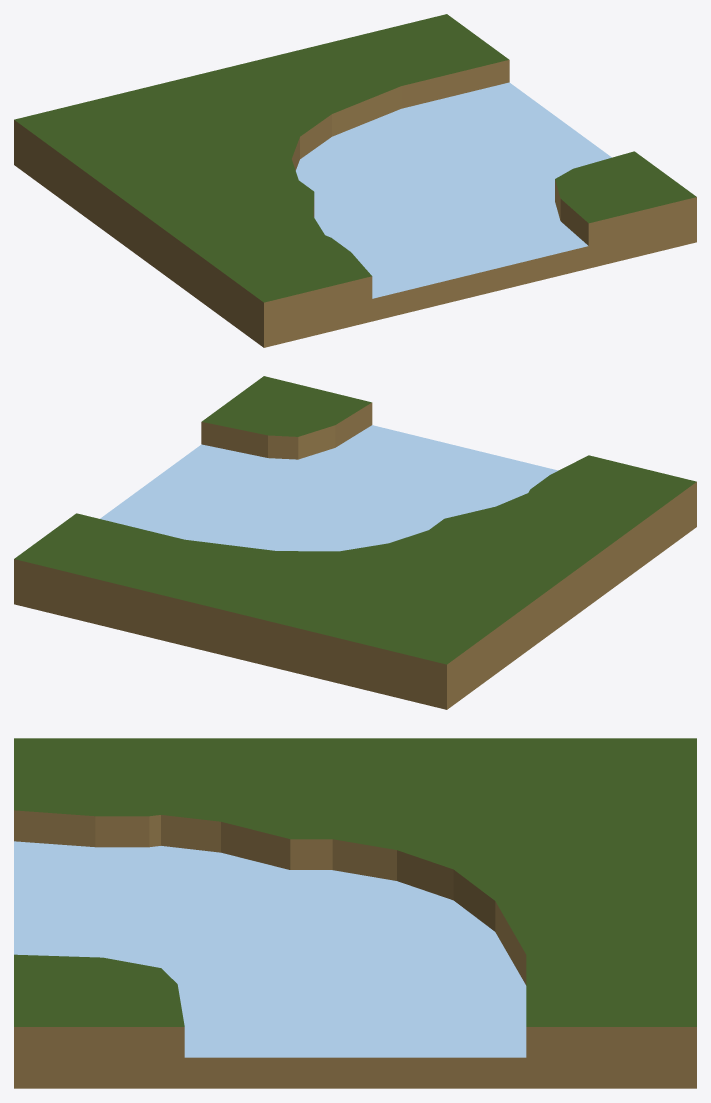
The model's file is Terrain_Modular_Tiles_Grass_Dirt_River_Bend_03.fbx.
3 renders of one model, top to bottom at view 1: azimuth 30°, elevation 25°; view 2: azimuth 150°, elevation 25°; view 3: azimuth 270°, elevation 25°, orthographic. The views are drawn at different scales.
Parts seen in each view (by area): view 1: Terrain_Modular_Tiles_Grass_Dirt_River_Bend_03; view 2: Terrain_Modular_Tiles_Grass_Dirt_River_Bend_03; view 3: Terrain_Modular_Tiles_Grass_Dirt_River_Bend_03.
Boxes of the visible parts, x1,y1,x2,y2 form: Terrain_Modular_Tiles_Grass_Dirt_River_Bend_03: [14, 14, 696, 347]; Terrain_Modular_Tiles_Grass_Dirt_River_Bend_03: [14, 376, 696, 709]; Terrain_Modular_Tiles_Grass_Dirt_River_Bend_03: [14, 738, 696, 1088].
Size of the model in its own units: 118 by 11.81 by 118.
